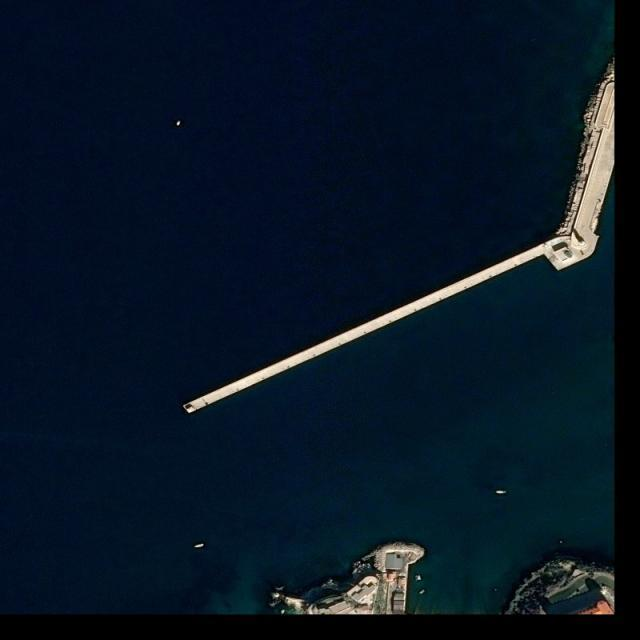ship: (194, 543, 205, 549), (494, 490, 507, 494)
